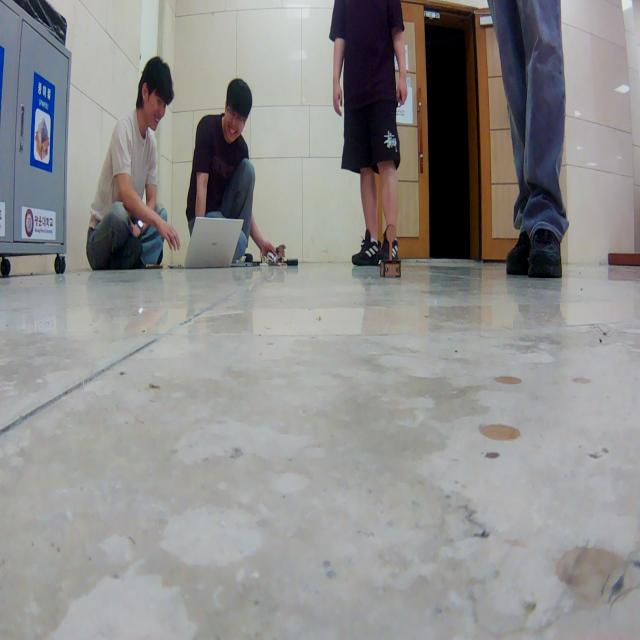target: (380, 224, 402, 278)
